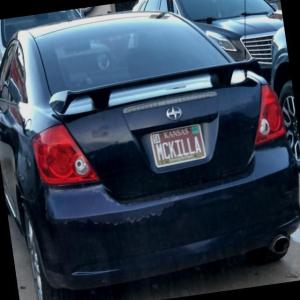Plate: (149, 123, 207, 169)
